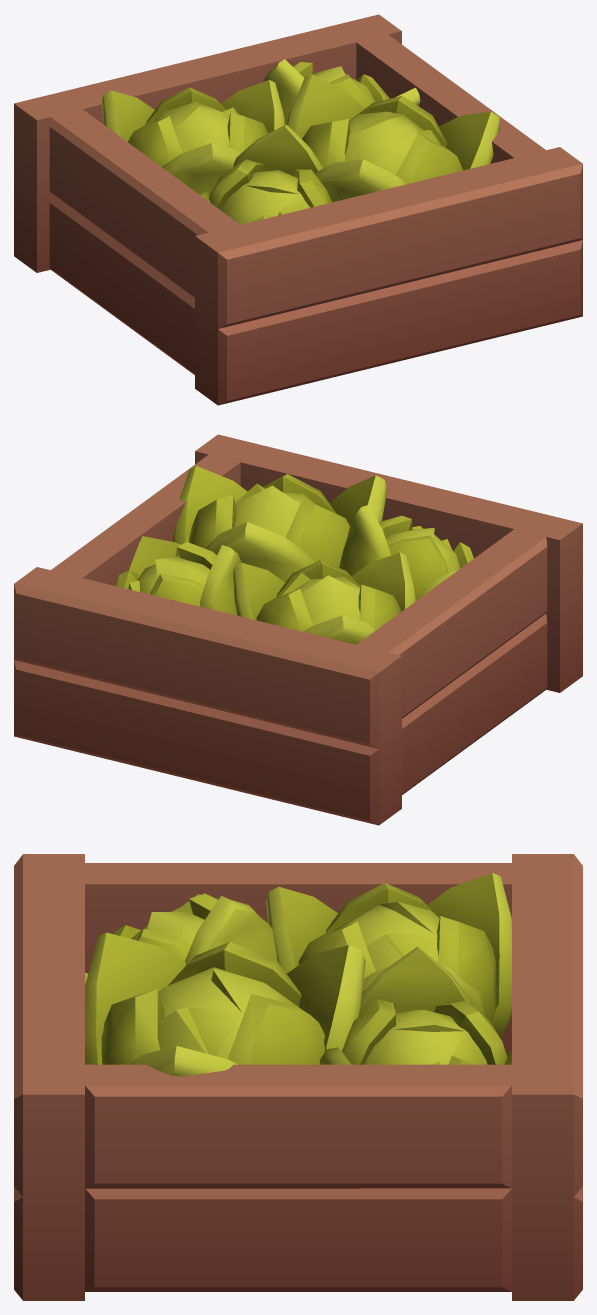
The model's file is crate_lettuce.obj.
3 views of the same model, one above another, from view 1: azimuth 30°, elevation 25°; view 2: azimuth 150°, elevation 25°; view 3: azimuth 270°, elevation 25° (orthographic). The views are drawn at different scales.
Parts seen in each view (by area): view 1: crate_lettuce_Cube.227; view 2: crate_lettuce_Cube.227; view 3: crate_lettuce_Cube.227.
Boxes of the visible parts, bbox=[...] form: crate_lettuce_Cube.227: bbox=[14, 14, 582, 405]; crate_lettuce_Cube.227: bbox=[14, 434, 582, 825]; crate_lettuce_Cube.227: bbox=[14, 854, 582, 1300].
Bounding box in the file's own units: 2 × 0.9981 × 2.
Materials: 1 (1 with a texture image).
